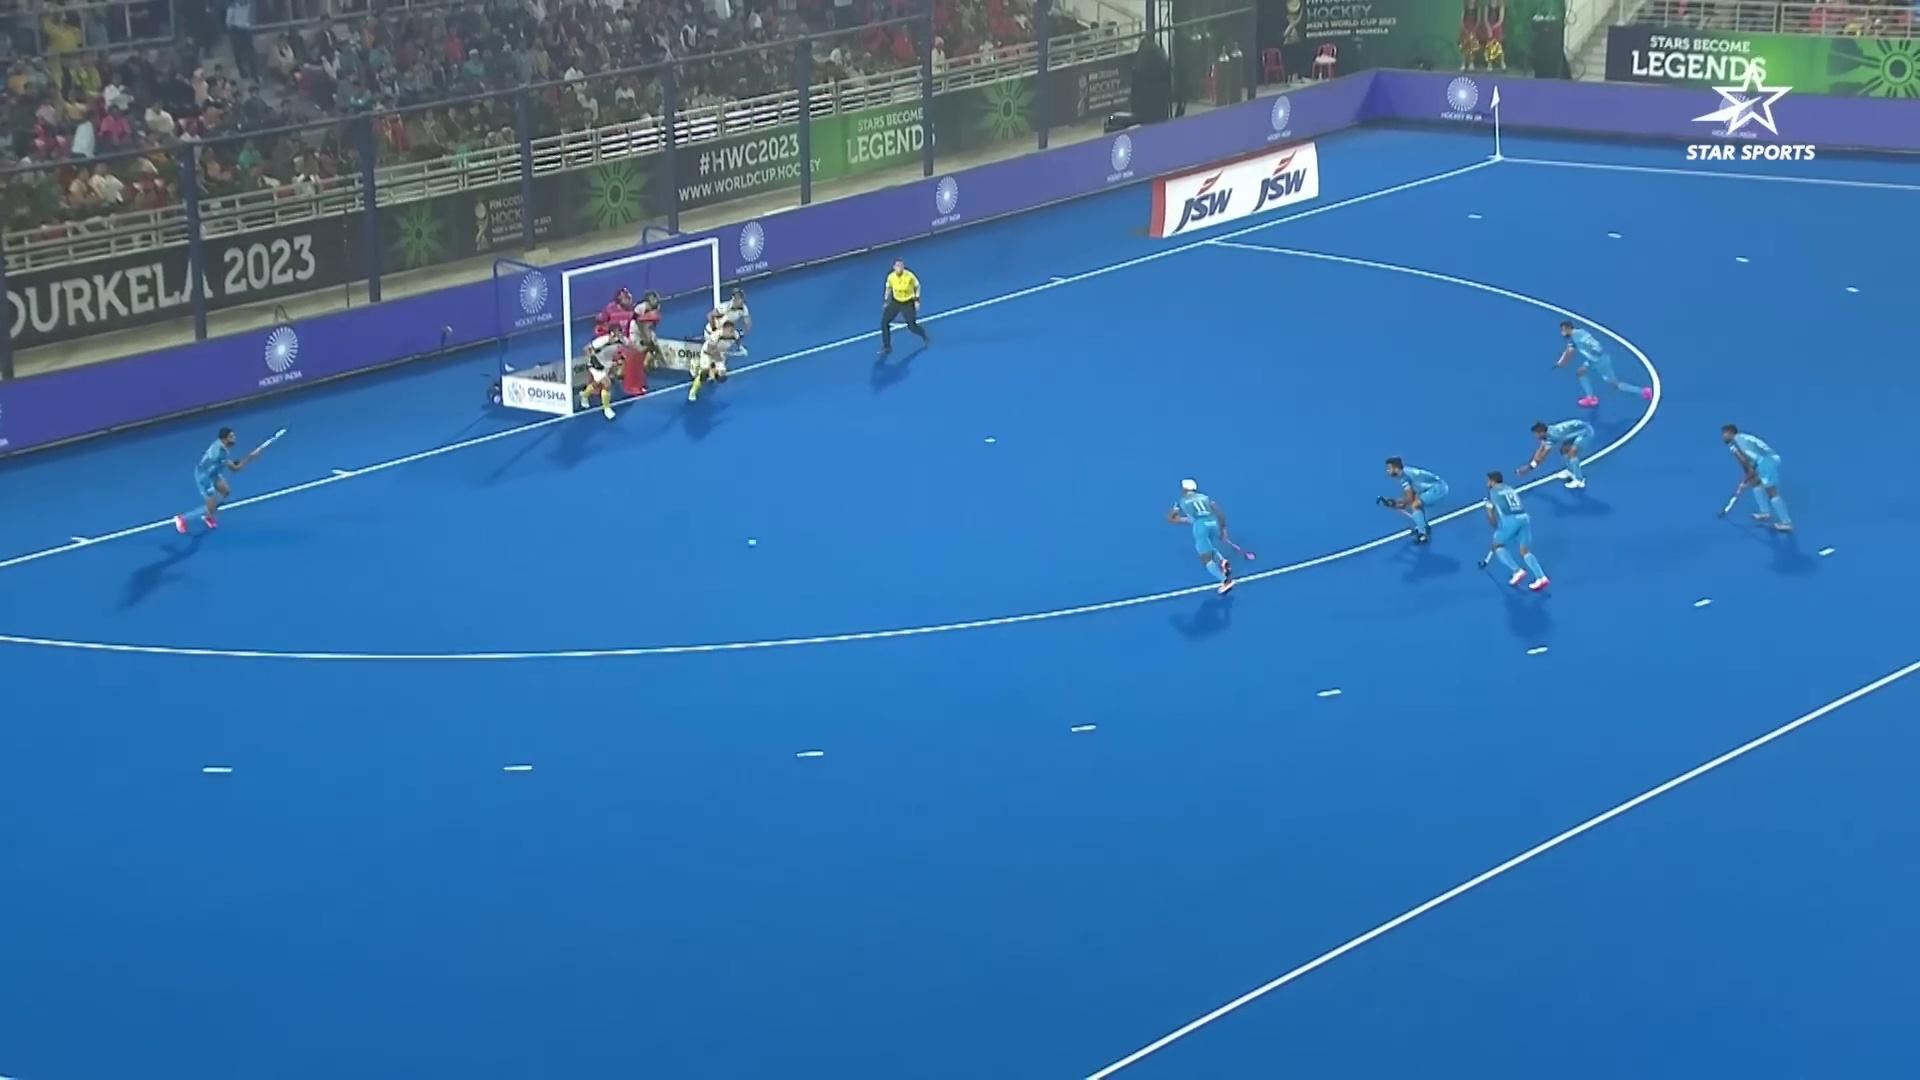ball: (744, 535, 765, 553)
